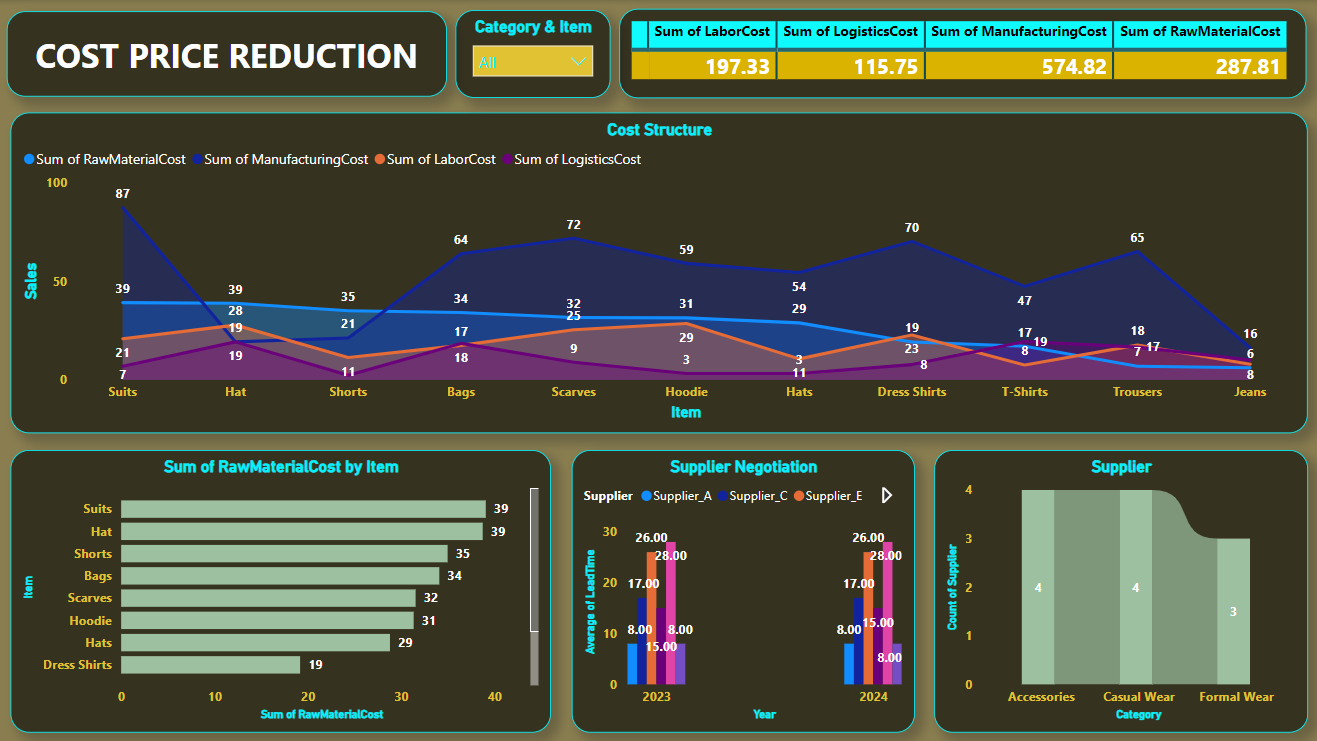

Layout of this report page (visuals, bound fields, positions):
{"tool":"powerbi","page":{"name":"COST PRICE REDUCTION","canvas":[1280,720],"ordinal":1},"visuals":[{"type":"textbox","box":[8.1,10.8,425,82],"z":0},{"type":"areaChart","title":"Cost Structure","fields":{"Category":["cost_data.Item"],"Y":["Sum(cost_data.RawMaterialCost)","Sum(cost_data.ManufacturingCost)","Sum(cost_data.LaborCost)","Sum(cost_data.LogisticsCost)"]},"box":[12.1,108.9,1252,309.3],"z":1000},{"type":"slicer","title":"Category & Item","fields":{"Values":["forecasted_demand.Date.Variation.Date Hierarchy.Year"]},"box":[441.1,9.4,149.3,84.7],"z":2000},{"type":"clusteredBarChart","fields":{"Category":["cost_data.Item","sales_data.Category"],"Y":["Sum(cost_data.RawMaterialCost)"]},"box":[12.1,434.4,521.8,273],"z":3000},{"type":"clusteredColumnChart","title":"Supplier Negotiation","fields":{"Category":["sales_data.Date.Variation.Date Hierarchy.Year"],"Y":["Avg(supplier_data.LeadTime)"],"Series":["supplier_data.Supplier"]},"box":[554.1,434.4,330.8,273],"z":4000},{"type":"pivotTable","fields":{"Values":["Sum(cost_data.LaborCost)","Sum(cost_data.LogisticsCost)","Sum(cost_data.ManufacturingCost)","Sum(cost_data.RawMaterialCost)"]},"box":[599.8,8.1,663,86.1],"z":5000},{"type":"ribbonChart","title":"Supplier","fields":{"Category":["cost_data.Category"],"Y":["CountNonNull(cost_data.Supplier)"]},"box":[903.7,434.4,360.4,273],"z":8000}]}

Visuals, with their boxes in screenshot pixels (x1, y1, x2, y2), scaled from the page's 1280x720 canvas onto the 1317x741 screenshot:
textbox: l=8, t=11, r=446, b=96
"Cost Structure" areaChart: l=12, t=112, r=1301, b=430
"Category & Item" slicer: l=454, t=10, r=607, b=97
clusteredBarChart - cost_data.Item x sales_data.Category: l=12, t=447, r=549, b=728
"Supplier Negotiation" clusteredColumnChart: l=570, t=447, r=910, b=728
pivotTable - Sum(cost_data.LaborCost) x Sum(cost_data.LogisticsCost): l=617, t=8, r=1299, b=97
"Supplier" ribbonChart: l=930, t=447, r=1301, b=728
